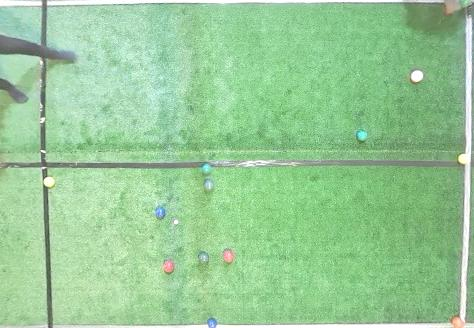blue: (155, 206, 166, 218), (207, 317, 218, 327)
green: (204, 179, 214, 191), (198, 253, 209, 263), (357, 131, 367, 141), (202, 163, 211, 174), (458, 1, 472, 8)
red: (410, 70, 424, 82), (451, 316, 466, 327), (163, 260, 175, 273), (223, 251, 234, 263), (446, 7, 454, 14)
vline: (1, 187, 54, 327), (1, 57, 48, 175), (457, 163, 473, 327), (1, 1, 48, 46), (464, 7, 473, 153)
white: (174, 220, 178, 224)
yellow: (458, 153, 471, 164), (44, 177, 55, 187)
